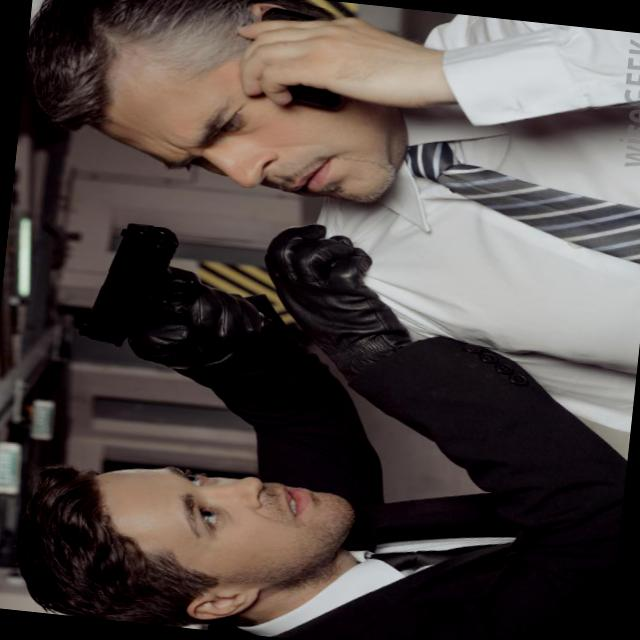handgun: (67, 216, 290, 372)
